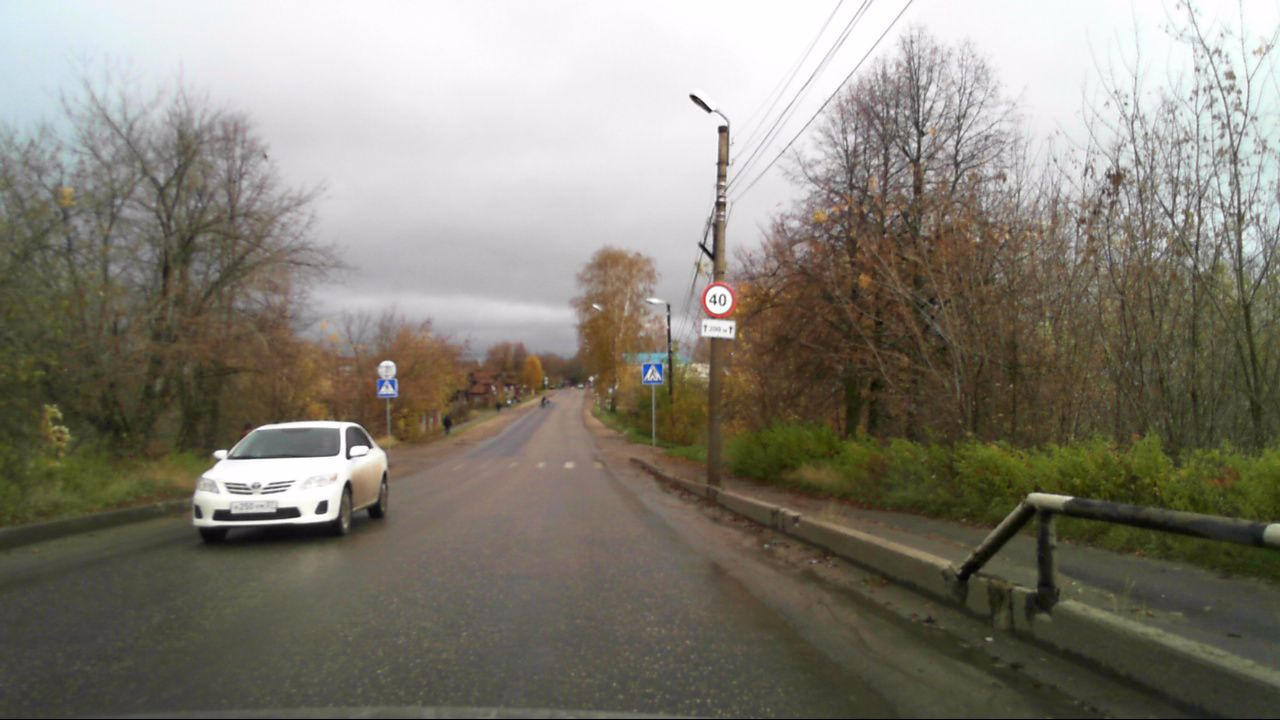speed_warning_40: (701, 282, 737, 316)
